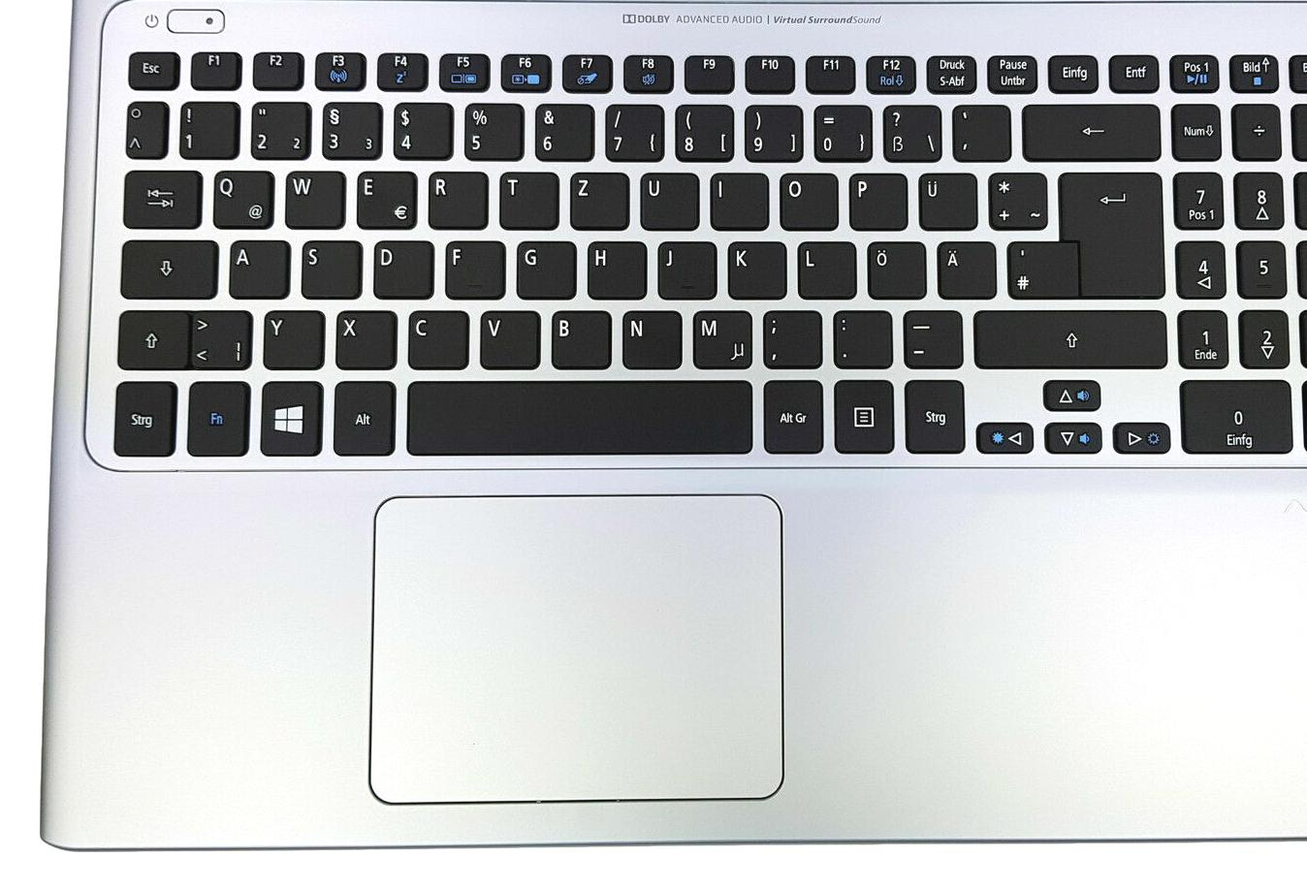0: (813, 104, 874, 163)
1: (180, 101, 241, 162)
2: (252, 102, 312, 160)
3: (323, 102, 384, 160)
4: (394, 103, 455, 161)
5: (465, 102, 526, 163)
6: (535, 103, 595, 163)
7: (605, 104, 664, 162)
8: (675, 104, 735, 163)
9: (745, 105, 804, 163)
a: (231, 240, 291, 300)
accent: (952, 103, 1012, 163)
ae: (937, 241, 998, 300)
alt-left: (335, 381, 396, 457)
altgr-right: (764, 380, 824, 454)
b: (552, 310, 613, 370)
c: (408, 310, 469, 370)
caret: (126, 101, 171, 159)
comma: (763, 310, 823, 369)
d: (374, 240, 434, 300)
del: (1021, 103, 1162, 163)
e: (357, 171, 417, 231)
enter: (1058, 171, 1164, 299)
f: (446, 240, 506, 301)
g: (517, 241, 577, 301)
h: (588, 240, 648, 301)
hash: (1007, 241, 1080, 299)
i: (711, 173, 770, 231)
j: (658, 240, 717, 300)
k: (728, 240, 788, 301)
keyboard: (82, 1, 1307, 472)
l: (797, 241, 858, 300)
less: (193, 309, 254, 370)
m: (693, 310, 753, 370)
minus: (903, 310, 964, 368)
n: (622, 310, 684, 370)
o: (780, 173, 840, 231)
oe: (869, 241, 927, 300)
p: (850, 174, 909, 231)
plus: (989, 174, 1047, 229)
point: (832, 310, 894, 369)
q: (212, 170, 275, 230)
r: (429, 172, 490, 231)
s: (303, 240, 363, 300)
shift-left: (118, 310, 188, 369)
shift-lock: (120, 240, 219, 300)
shift-right: (973, 309, 1167, 369)
space: (407, 381, 752, 456)
ss: (883, 105, 942, 162)
strg-left: (114, 381, 176, 458)
strg-right: (905, 380, 966, 455)
t: (499, 173, 560, 230)
tab: (124, 169, 204, 229)
u: (641, 173, 700, 230)
ue: (919, 174, 978, 232)
v: (481, 310, 542, 370)
w: (285, 171, 347, 229)
x: (335, 310, 398, 369)
y: (262, 310, 327, 370)
z: (570, 173, 630, 231)
